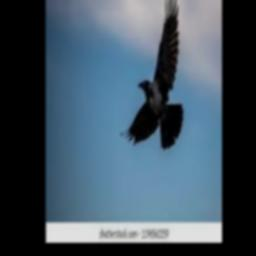Crow: (120, 0, 183, 149)
